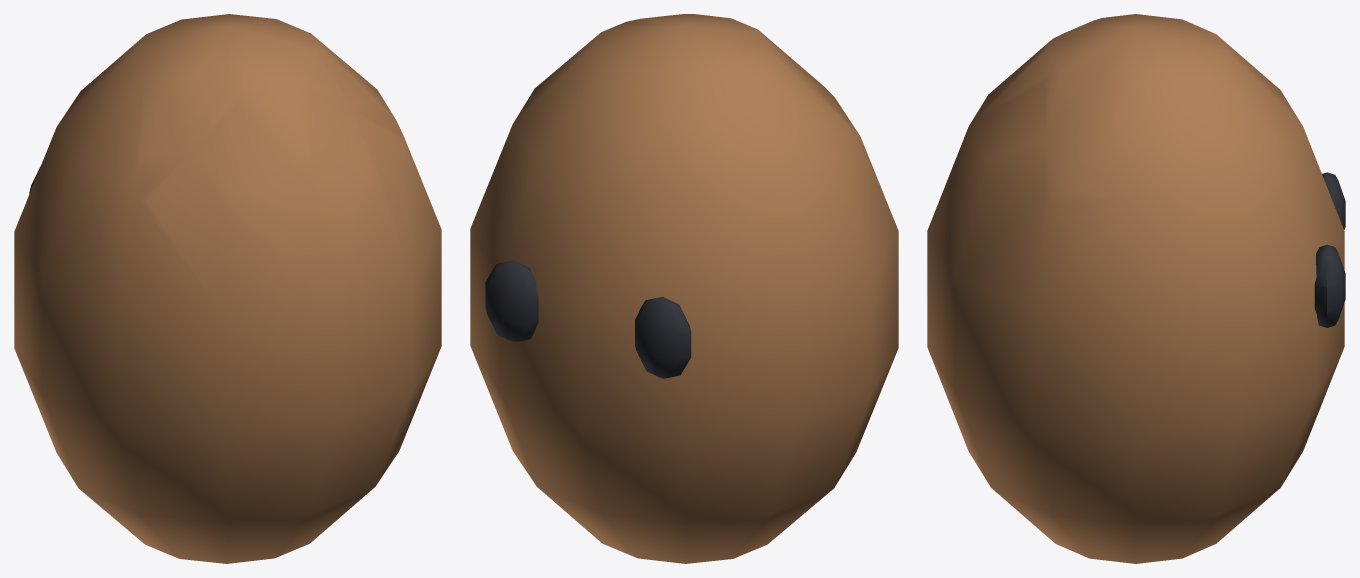
The model's file is gorehulk_e_head.obj.
3 renders of one model, left to right at view 1: azimuth 30°, elevation 25°; view 2: azimuth 150°, elevation 25°; view 3: azimuth 270°, elevation 25°, orthographic.
Parts seen in each view (by area): view 1: source_component_000; view 2: source_component_000, source_component_001, source_component_002; view 3: source_component_000, source_component_002, source_component_001.
Boxes of the visible parts, x1=… form: source_component_000: x1=14, y1=14, x2=441, y2=563; source_component_000: x1=470, y1=14, x2=898, y2=563; source_component_001: x1=635, y1=296, x2=691, y2=378; source_component_002: x1=485, y1=260, x2=538, y2=342; source_component_000: x1=927, y1=14, x2=1344, y2=563; source_component_002: x1=1314, y1=244, x2=1345, y2=327; source_component_001: x1=1322, y1=172, x2=1345, y2=229.
Size of the model in its own units: 0.351 by 0.47 by 0.3422.
